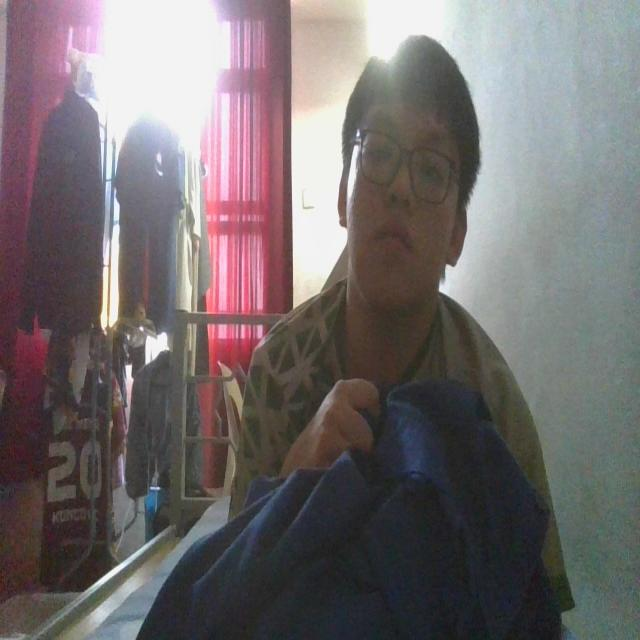person_without_labcoat: (139, 36, 572, 639)
